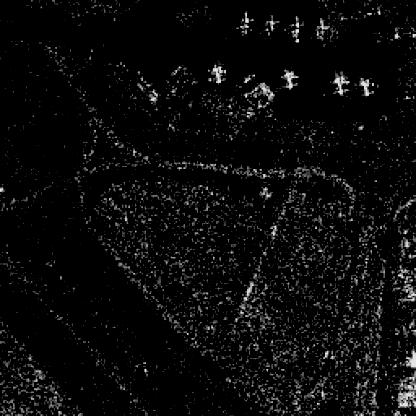airplane: (203, 59, 231, 86), (309, 13, 332, 44), (354, 72, 377, 99), (233, 10, 256, 37), (286, 12, 304, 46), (330, 72, 351, 99), (262, 13, 282, 39), (278, 68, 300, 90)
